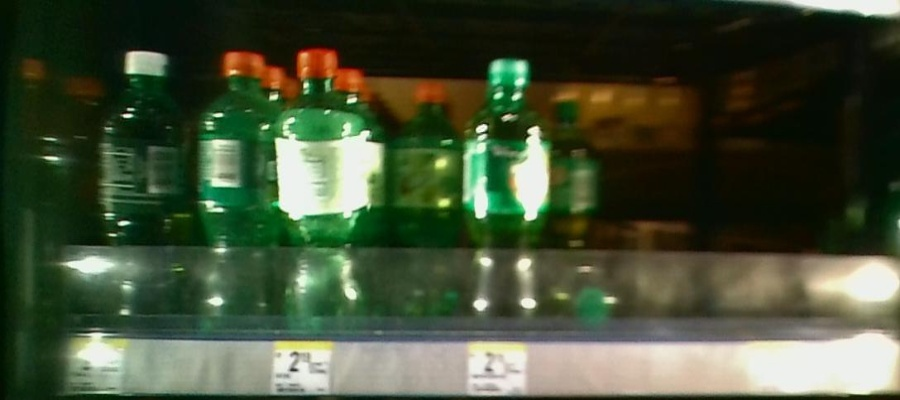bottle: (273, 44, 370, 331), (95, 45, 186, 327), (189, 48, 273, 330), (464, 57, 550, 330), (388, 72, 463, 324), (552, 96, 601, 285)
